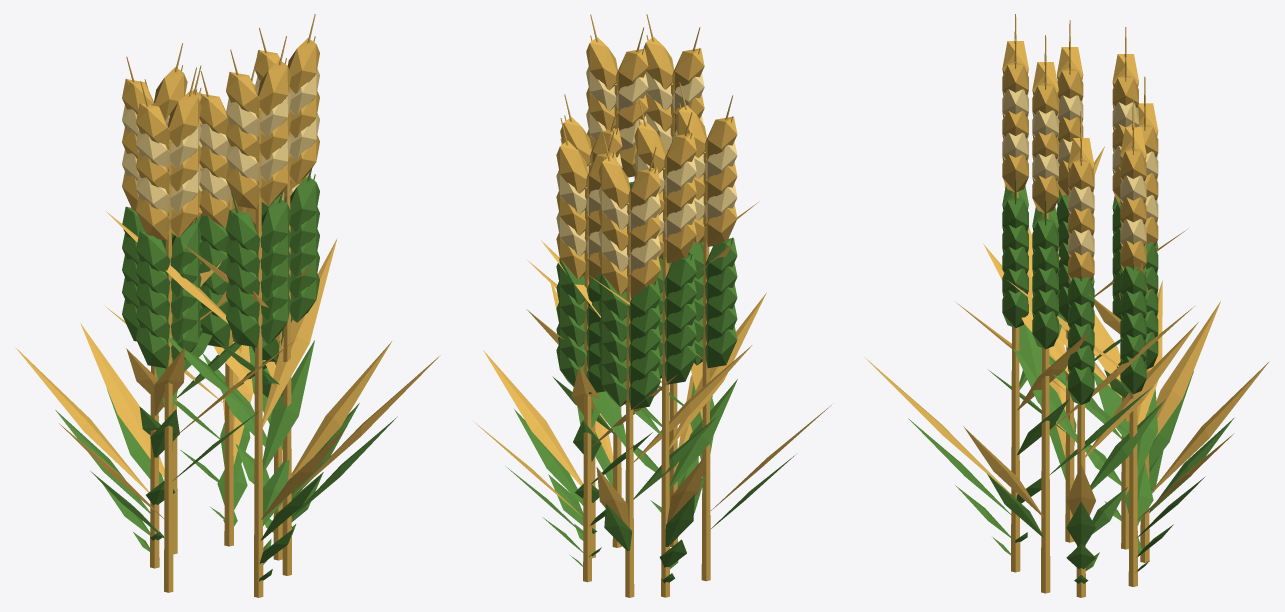
Rendered from wheat_growing.glb.
3 views of the same model, side by side, from view 1: azimuth 30°, elevation 25°; view 2: azimuth 150°, elevation 25°; view 3: azimuth 270°, elevation 25° (orthographic). The views are drawn at different scales.
Visible parts, largest first — view 1: Stage_3.001_Mesh, Stage_2.001_Mesh, Stage_1.001_Mesh; view 2: Stage_3.001_Mesh, Stage_2.001_Mesh, Stage_1.001_Mesh; view 3: Stage_3.001_Mesh, Stage_2.001_Mesh, Stage_1.001_Mesh.
Part boxes in pixels (x1,y1,x2,y2): Stage_3.001_Mesh: (15, 14, 440, 597); Stage_2.001_Mesh: (55, 169, 397, 540); Stage_1.001_Mesh: (102, 444, 323, 563); Stage_3.001_Mesh: (473, 14, 833, 597); Stage_2.001_Mesh: (505, 181, 794, 550); Stage_1.001_Mesh: (542, 445, 705, 567); Stage_3.001_Mesh: (864, 14, 1269, 597); Stage_2.001_Mesh: (908, 179, 1233, 546); Stage_1.001_Mesh: (955, 433, 1173, 569).
Size of the model in its own units: 6.68e-05 by 0.0001 by 6.8e-05.
